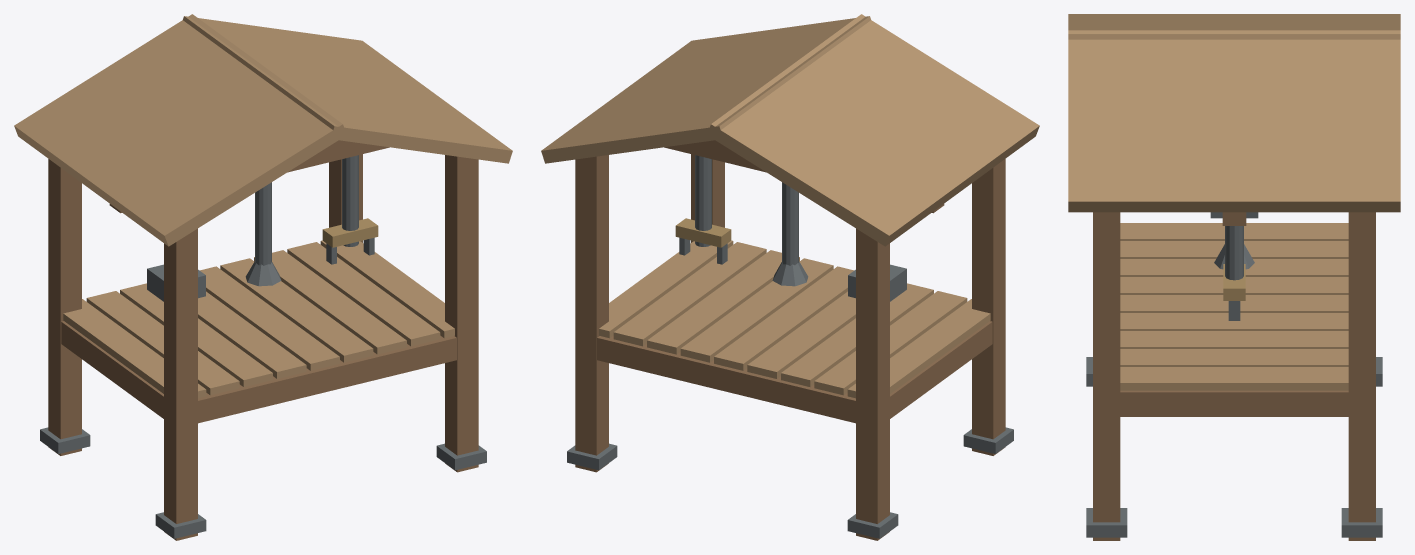
Rendered from vf_advanced_assembler.glb.
3 renders of one model, left to right at view 1: azimuth 30°, elevation 25°; view 2: azimuth 150°, elevation 25°; view 3: azimuth 270°, elevation 25°, orthographic. The views are drawn at different scales.
Visible parts, largest first — view 1: Static_OakLight, Static_Oak, Static_Iron, Tool_Head_1_Iron, Tool_Head_2_Iron, Tool_Head_2_Bronze, Tool_Head_0_Iron; view 2: Static_OakLight, Static_Oak, Static_Iron, Tool_Head_1_Iron, Tool_Head_2_Iron, Tool_Head_2_Bronze, Tool_Head_0_Iron; view 3: Static_OakLight, Static_Oak, Static_Iron, Tool_Head_2_Iron, Tool_Head_2_Bronze.
Part boxes in pixels (x1,y1,x2,y2): Static_OakLight: (14, 14, 512, 398); Static_Oak: (48, 140, 478, 540); Static_Iron: (40, 427, 486, 538); Tool_Head_1_Iron: (245, 182, 281, 286); Tool_Head_2_Iron: (326, 155, 374, 264); Tool_Head_2_Bronze: (322, 218, 378, 247); Tool_Head_0_Iron: (147, 264, 205, 301); Static_OakLight: (541, 14, 1039, 398); Static_Oak: (575, 140, 1005, 540); Static_Iron: (567, 427, 1013, 538); Tool_Head_1_Iron: (772, 182, 808, 286); Tool_Head_2_Iron: (679, 155, 727, 264); Tool_Head_2_Bronze: (675, 218, 731, 247); Tool_Head_0_Iron: (848, 264, 906, 301); Static_OakLight: (1068, 14, 1400, 390); Static_Oak: (1093, 212, 1375, 540); Static_Iron: (1086, 357, 1382, 537); Tool_Head_2_Iron: (1225, 226, 1243, 320); Tool_Head_2_Bronze: (1223, 264, 1245, 300).
Bounding box in the file's own units: 2.6 × 2.77 × 1.95.
